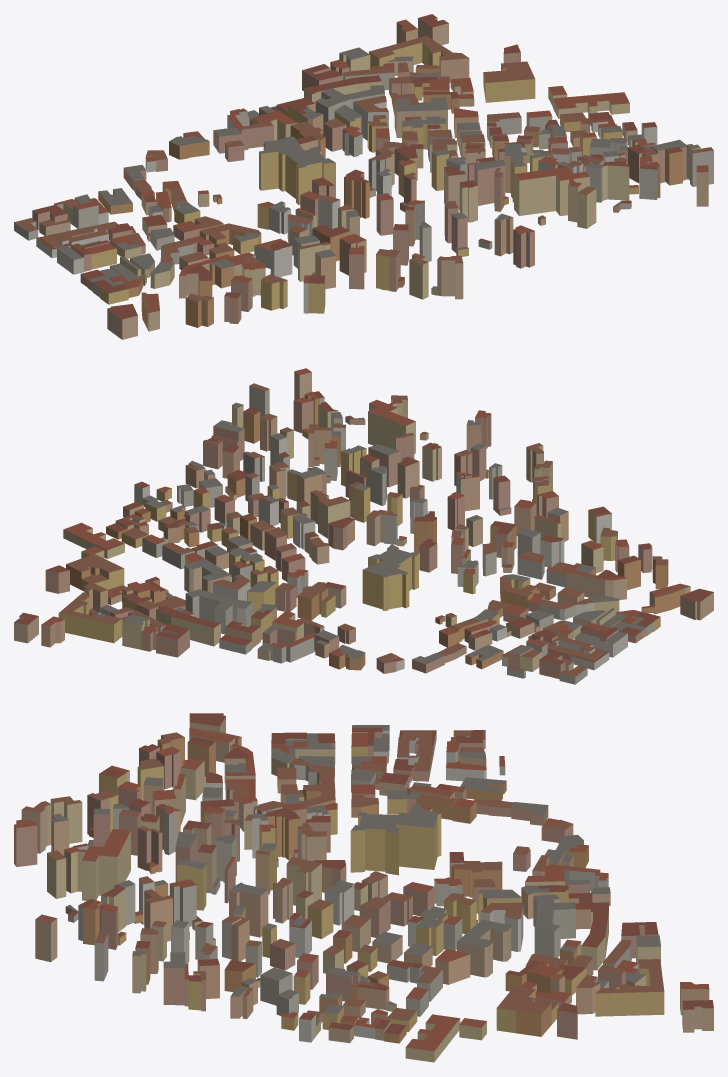
The model's file is SM_Fondale_Citta_NO_01.fbx.
3 renders of one model, top to bottom at view 1: azimuth 30°, elevation 25°; view 2: azimuth 150°, elevation 25°; view 3: azimuth 270°, elevation 25°, orthographic. The views are drawn at different scales.
Visible parts, largest first — view 1: SM_Fondale_Citta_NO_01; view 2: SM_Fondale_Citta_NO_01; view 3: SM_Fondale_Citta_NO_01.
Part boxes in pixels (left/top/right/bottom): SM_Fondale_Citta_NO_01: left=14, top=14, right=713, bottom=339; SM_Fondale_Citta_NO_01: left=14, top=368, right=713, bottom=684; SM_Fondale_Citta_NO_01: left=14, top=713, right=713, bottom=1062.
Bounding box in the file's own units: 59829 × 52487 × 8953.
